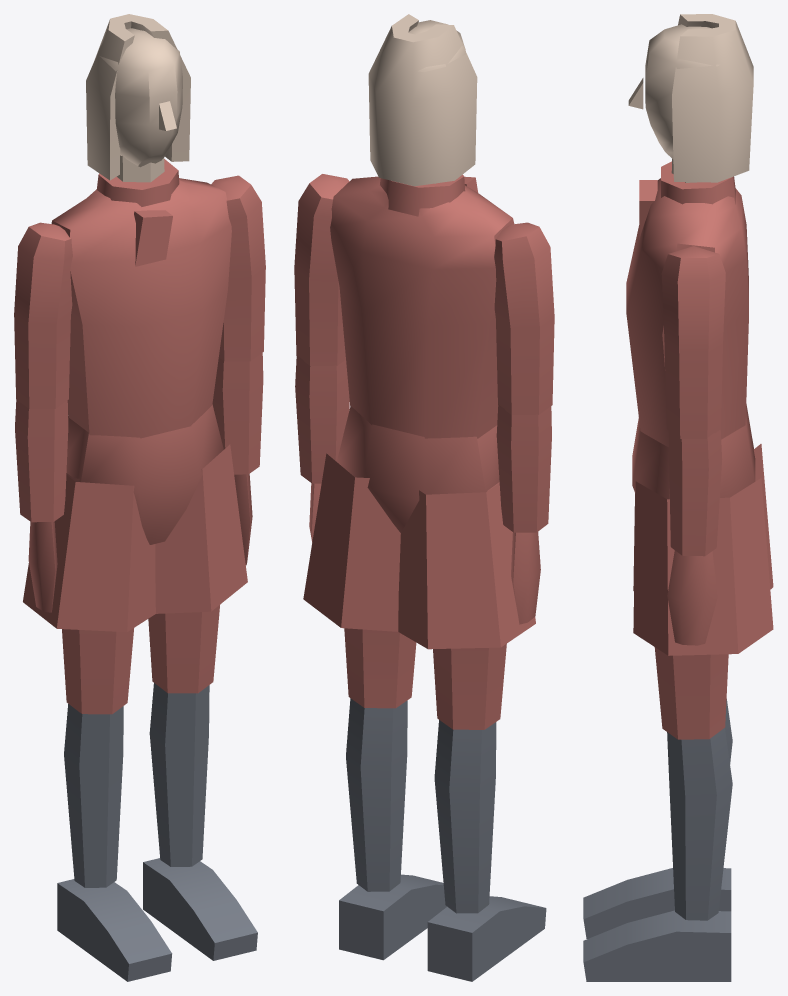
Rendered from maja.glb.
3 views of the same model, side by side, from view 1: azimuth 30°, elevation 25°; view 2: azimuth 150°, elevation 25°; view 3: azimuth 270°, elevation 25° (orthographic). The views are drawn at different scales.
Visible parts, largest first — view 1: torso, leg_r, shin_r, shin_l, leg_l, head, hips, arm_r, forearm_r, arm_l, forearm_l; view 2: torso, leg_r, leg_l, shin_r, shin_l, head, arm_r, hips, forearm_r, arm_l, forearm_l; view 3: leg_l, shin_l, torso, head, arm_l, forearm_l, shin_r, hips, leg_r.
Boxes of the visible parts, left/top/right/bottom form: torso: left=51, top=159, right=231, bottom=438; leg_r: left=23, top=473, right=155, bottom=714; shin_r: left=57, top=704, right=172, bottom=981; shin_l: left=143, top=683, right=257, bottom=960; leg_l: left=148, top=444, right=247, bottom=693; head: left=86, top=14, right=190, bottom=182; hips: left=66, top=404, right=223, bottom=544; arm_r: left=14, top=222, right=72, bottom=408; forearm_r: left=15, top=399, right=68, bottom=612; arm_l: left=211, top=175, right=265, bottom=361; forearm_l: left=212, top=353, right=263, bottom=565; torso: left=330, top=174, right=514, bottom=438; leg_r: left=398, top=482, right=535, bottom=729; leg_l: left=303, top=453, right=416, bottom=708; shin_r: left=427, top=720, right=546, bottom=981; shin_l: left=339, top=698, right=446, bottom=960; head: left=368, top=14, right=477, bottom=186; arm_r: left=494, top=222, right=554, bottom=414; hips: left=336, top=406, right=499, bottom=532; forearm_r: left=496, top=404, right=551, bottom=624; arm_l: left=294, top=174, right=349, bottom=365; forearm_l: left=295, top=355, right=349, bottom=542; leg_l: left=633, top=478, right=773, bottom=739; shin_l: left=583, top=728, right=732, bottom=981; torso: left=626, top=161, right=748, bottom=447; head: left=628, top=14, right=753, bottom=182; arm_l: left=661, top=246, right=725, bottom=438; forearm_l: left=667, top=429, right=722, bottom=645; shin_r: left=583, top=699, right=732, bottom=938; hips: left=632, top=404, right=755, bottom=499; leg_r: left=633, top=444, right=773, bottom=590.
Bounding box in the file's own units: 0.4679 × 1.69 × 0.3145.
